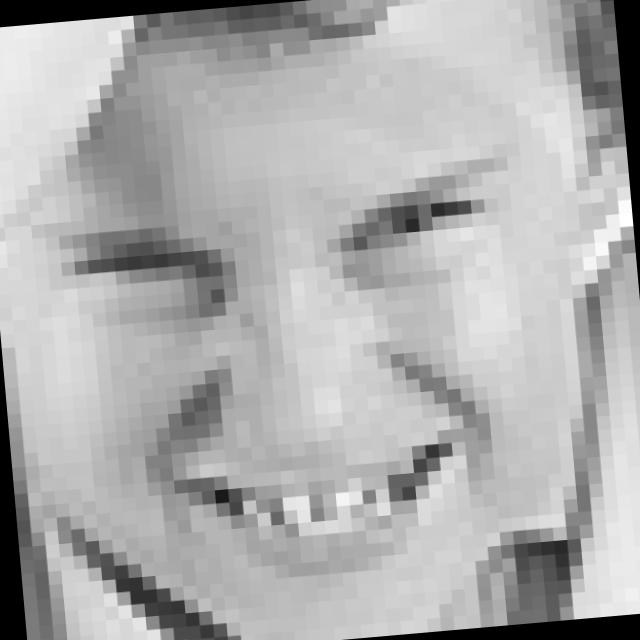angry: (48, 150, 554, 594)
